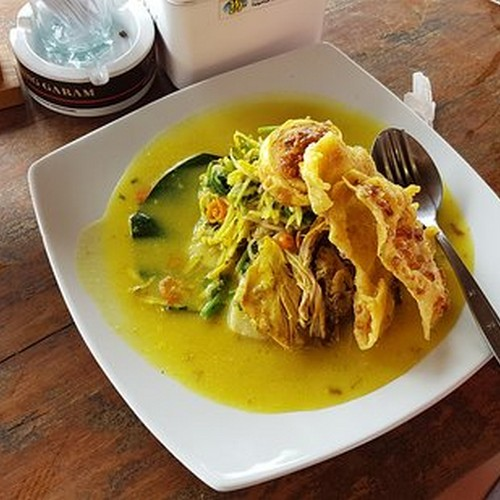tipat blayag: (165, 125, 466, 367)
